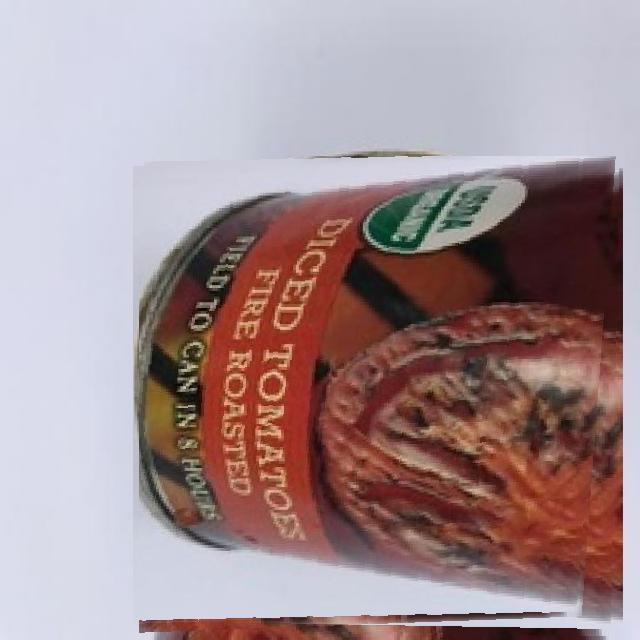recyclable: (139, 156, 617, 634)
